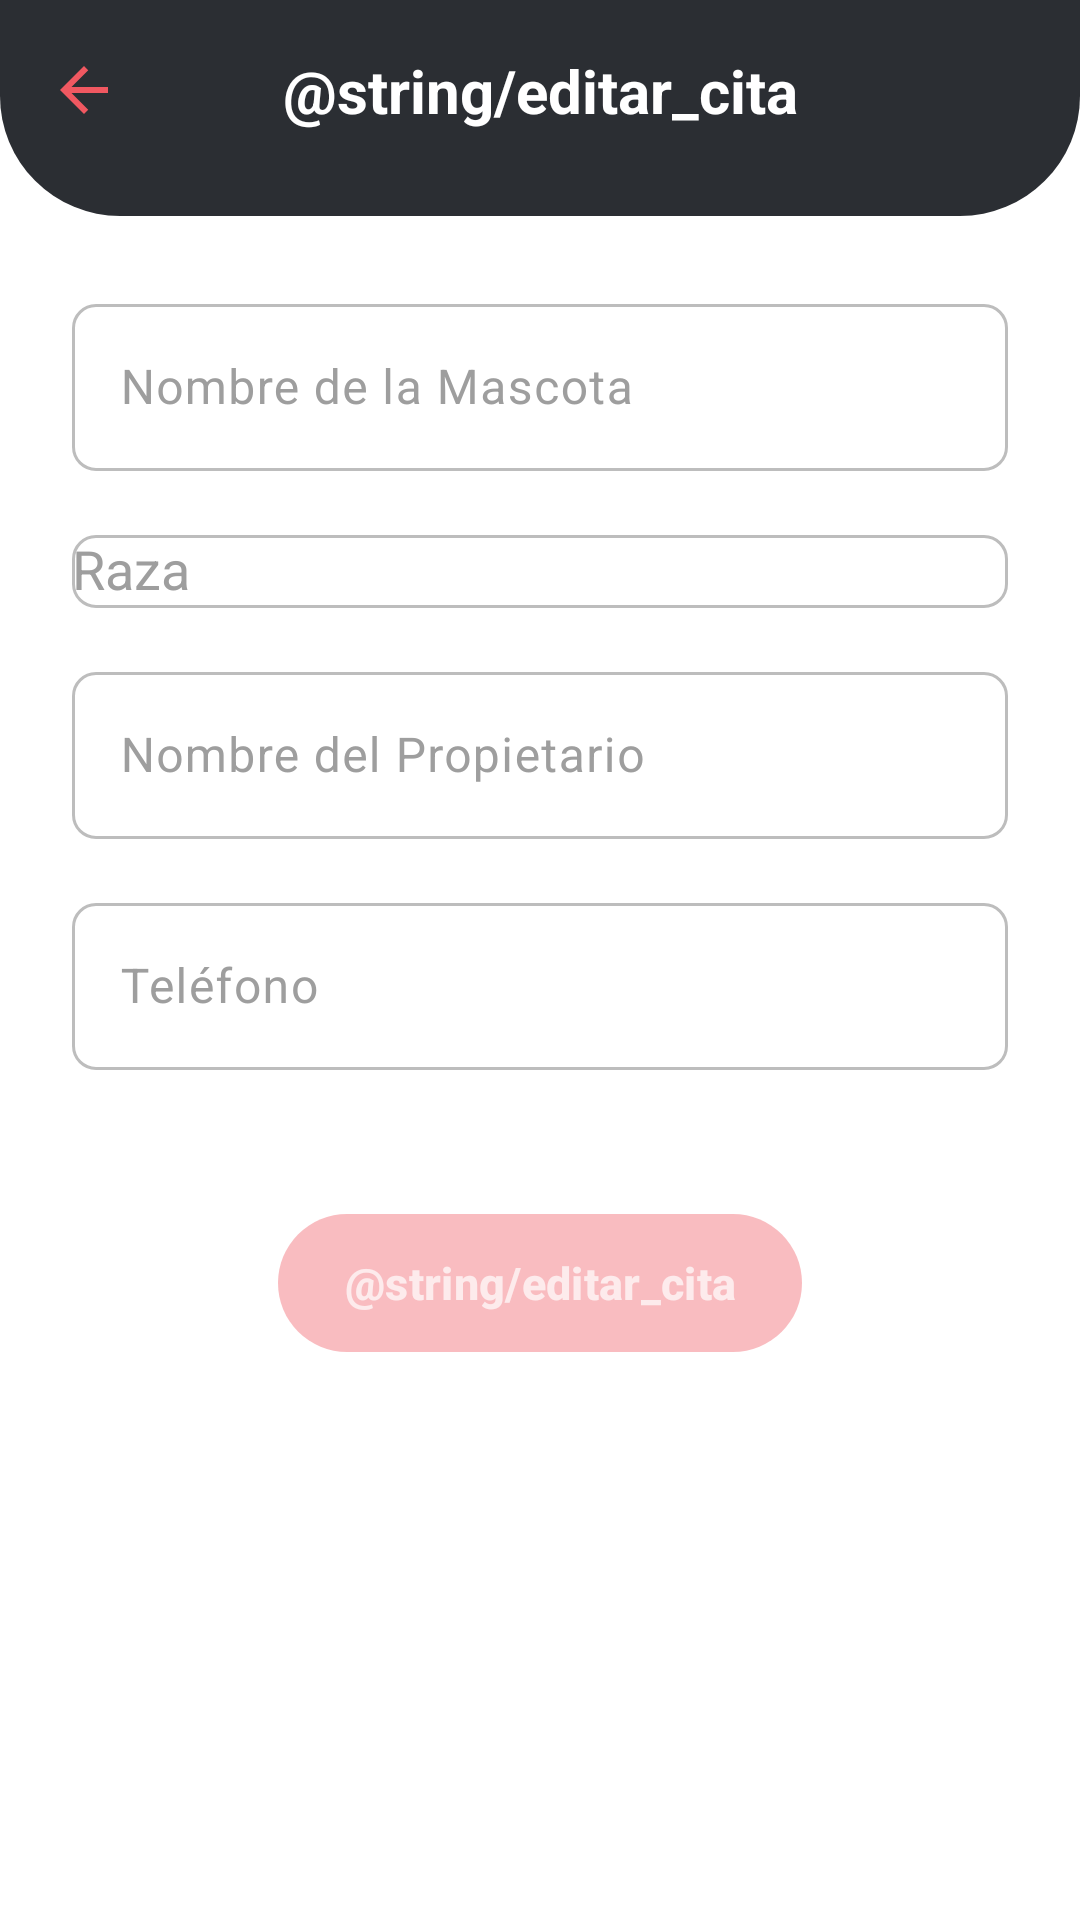

Named icons in this screenshot (1080px x 1920px) and their bounding boxes, rect(x1, y1, x2, y2):
Volver: rect(60, 66, 108, 114)
